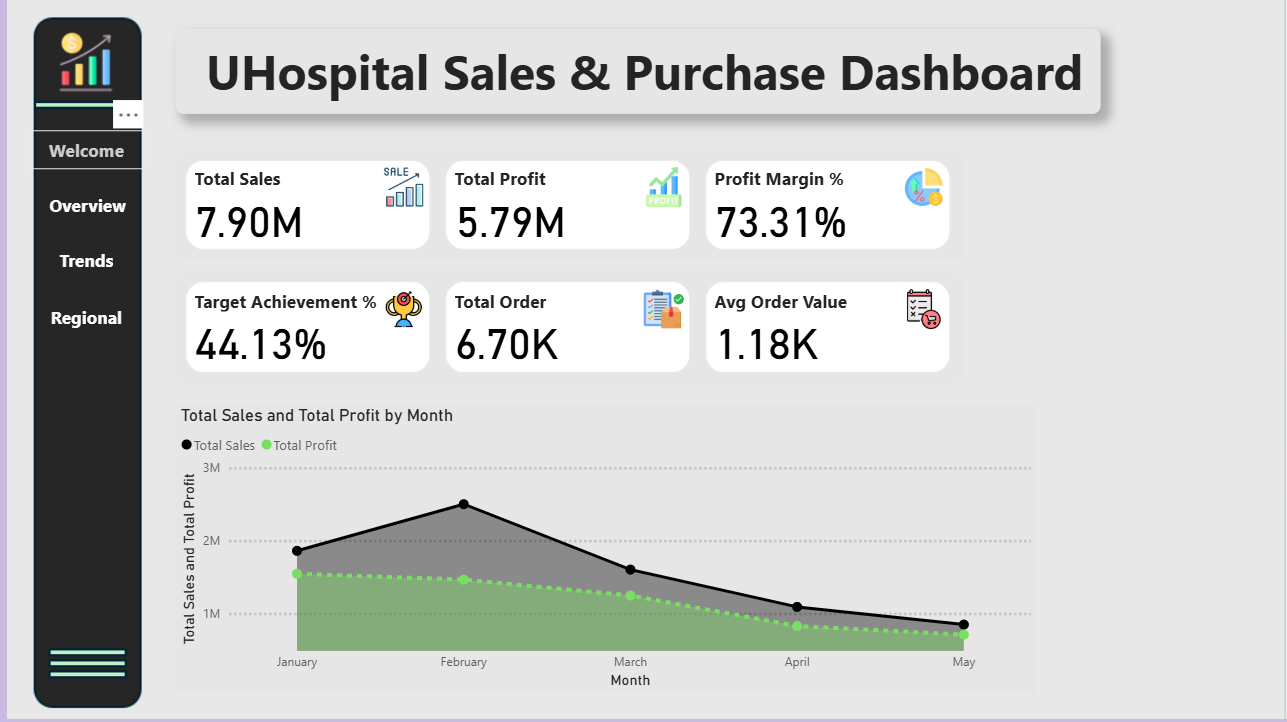

Layout of this report page (visuals, bound fields, positions):
{"tool":"powerbi","page":{"name":"Welcome","canvas":[1280,720],"ordinal":0},"visuals":[{"type":"textbox","box":[168.3,30,925,85],"z":0},{"type":"areaChart","fields":{"Category":["Calendar.Date.Variation.Date Hierarchy.Month"],"Y":["Measure (DAX).Total Sales","Measure (DAX).Total Profit"]},"box":[168.3,406.7,860,288.3],"z":1000},{"type":"cardVisual","fields":{"Data":["Measure (DAX).Total Sales","Measure (DAX).Total Profit","Measure (DAX).Profit Margin %"]},"box":[168.6,151.4,787.1,110],"z":2000},{"type":"cardVisual","fields":{"Data":["Measure (DAX).Target Achievement %","Measure (DAX).Total Order","Measure (DAX).Avg Order Value"]},"box":[168.6,272.9,787.1,112.9],"z":3000},{"type":"actionButton","box":[21.2,131.2,116.2,38.8],"z":4000},{"type":"actionButton","box":[22.5,186.2,116.2,38.8],"z":5000},{"type":"actionButton","box":[21.2,241.2,116.2,38.8],"z":6000},{"type":"actionButton","box":[21.2,298.8,116.2,38.8],"z":7000}]}

Visuals, with their boxes in screenshot pixels (x1, y1, x2, y2), scaled from the page's 1280x720 canvas onto the 1287x722 screenshot:
textbox: [169,30,1099,115]
areaChart - Calendar.Date.Variation.Date Hierarchy.Month x Measure (DAX).Total Sales: [169,408,1034,697]
cardVisual - Measure (DAX).Total Sales x Measure (DAX).Total Profit: [170,152,961,262]
cardVisual - Measure (DAX).Target Achievement % x Measure (DAX).Total Order: [170,274,961,387]
actionButton: [21,132,138,170]
actionButton: [23,187,139,226]
actionButton: [21,242,138,281]
actionButton: [21,300,138,339]
